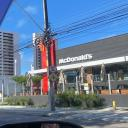NoEstacionar: (49, 64, 58, 73)
